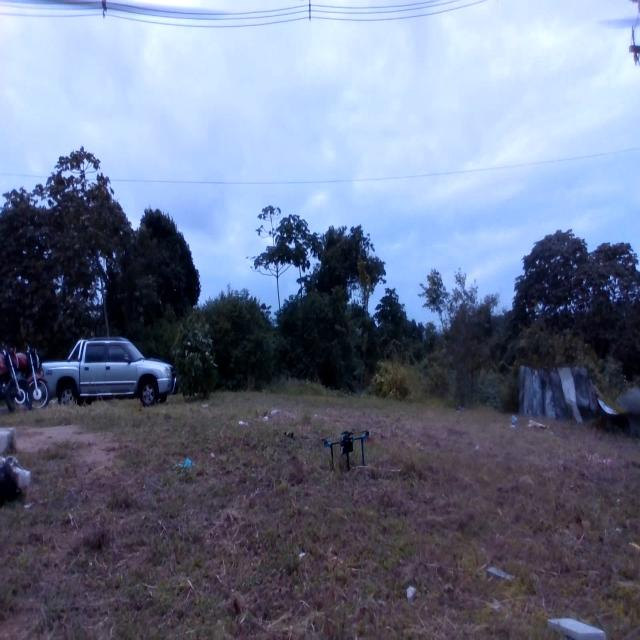-uav-: (318, 422, 379, 489)
